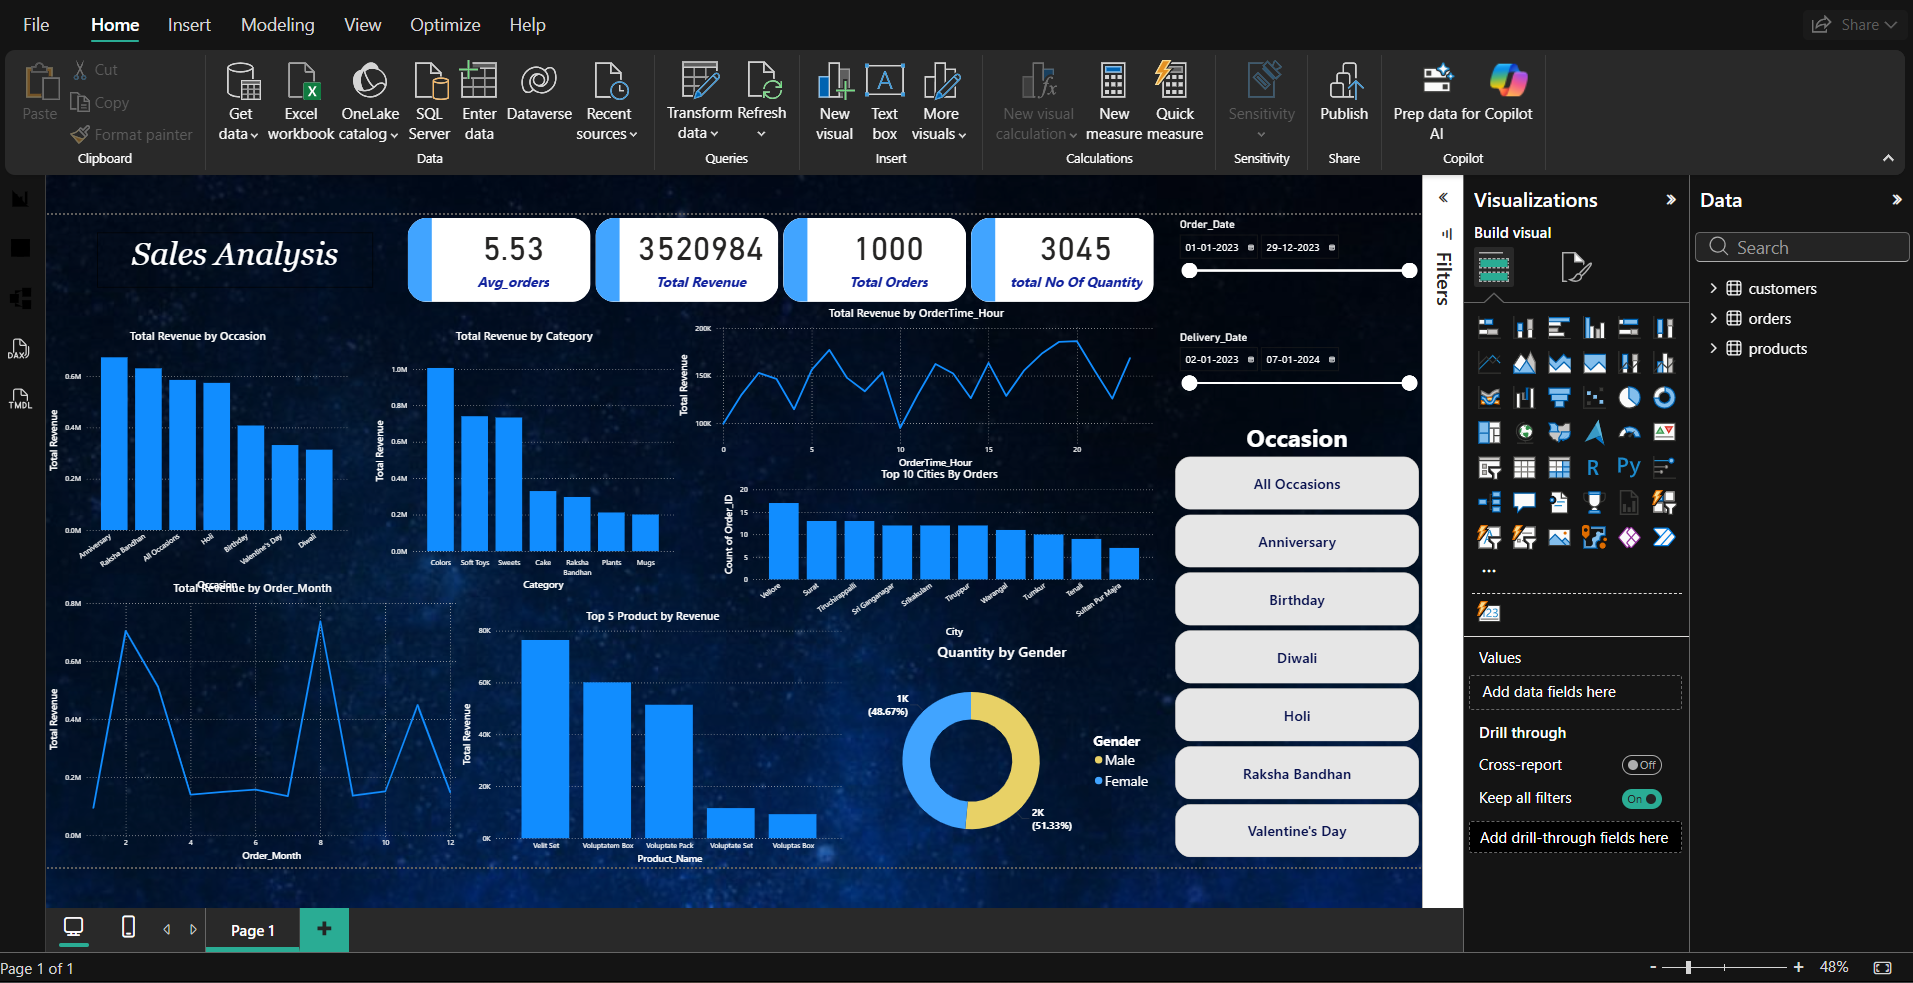

This screenshot's page, from the dashboard's own definition file:
{"tool":"powerbi","page":{"name":"Page 1","canvas":[2280,1080],"ordinal":0},"visuals":[{"type":"cardVisual","fields":{"Data":["orders.Avg_orders","products.Total Revenue","CountNonNull(orders.Order_ID)","Sum(orders.Quantity)"]},"box":[595.2,0,1246.4,149.3],"z":0},{"type":"slicer","fields":{"Values":["orders.Order_Date"]},"box":[1865.9,0,414.2,186.6],"z":1000},{"type":"columnChart","fields":{"Category":["orders.Occasion"],"Y":["products.Total Revenue"]},"box":[0,186.6,503.8,440.4],"z":2000},{"type":"columnChart","fields":{"Y":["products.Total Revenue"],"Category":["products.Category"]},"box":[541.1,186.6,503.8,440.4],"z":3000},{"type":"lineChart","fields":{"Y":["products.Total Revenue"],"Category":["orders.OrderTime_Hour"]},"box":[1044.9,149.3,796.8,276.2],"z":4000},{"type":"lineChart","fields":{"Y":["products.Total Revenue"],"Category":["orders.Order_Month"]},"box":[0,604.6,684.8,472.1],"z":5000},{"type":"columnChart","title":"Top 5 Product by Revenue","fields":{"Y":["products.Total Revenue"],"Category":["products.Product_Name"]},"box":[684.8,649.3,640,431],"z":6000},{"type":"columnChart","title":"Top 10 Cities By Orders","fields":{"Y":["CountNonNull(orders.Order_ID)"],"Category":["customers.City"]},"box":[1117.7,416.1,724,289.2],"z":7000},{"type":"advancedSlicerVisual","fields":{"Values":["orders.Occasion"]},"box":[1865.9,341.5,414.2,727.7],"z":8000},{"type":"slicer","fields":{"Values":["orders.Delivery_Date"]},"box":[1865.9,186.6,414.2,195.9],"z":9000},{"type":"textbox","title":"Sales Analysis","box":[84,29.9,457.2,91.4],"z":10000},{"type":"donutChart","title":" Quantity by Gender","fields":{"Category":["customers.Gender"],"Y":["Sum(orders.Quantity)"]},"box":[1324.8,705.3,516.9,363.9],"z":10001}]}

Visuals, with their boxes on the page's 2280x1080 design canvas (x1, y1, x2, y2). These are canvas units, not pixel positions in the 1913x983 screenshot, which may show the page scaled, cropped or inside an application window:
cardVisual - orders.Avg_orders x products.Total Revenue: (left=595, top=0, right=1842, bottom=149)
slicer - orders.Order_Date: (left=1866, top=0, right=2280, bottom=187)
columnChart - orders.Occasion x products.Total Revenue: (left=0, top=187, right=504, bottom=627)
columnChart - products.Total Revenue x products.Category: (left=541, top=187, right=1045, bottom=627)
lineChart - products.Total Revenue x orders.OrderTime_Hour: (left=1045, top=149, right=1842, bottom=426)
lineChart - products.Total Revenue x orders.Order_Month: (left=0, top=605, right=685, bottom=1077)
"Top 5 Product by Revenue" columnChart: (left=685, top=649, right=1325, bottom=1080)
"Top 10 Cities By Orders" columnChart: (left=1118, top=416, right=1842, bottom=705)
advancedSlicerVisual - orders.Occasion: (left=1866, top=342, right=2280, bottom=1069)
slicer - orders.Delivery_Date: (left=1866, top=187, right=2280, bottom=382)
"Sales Analysis" textbox: (left=84, top=30, right=541, bottom=121)
" Quantity by Gender" donutChart: (left=1325, top=705, right=1842, bottom=1069)
